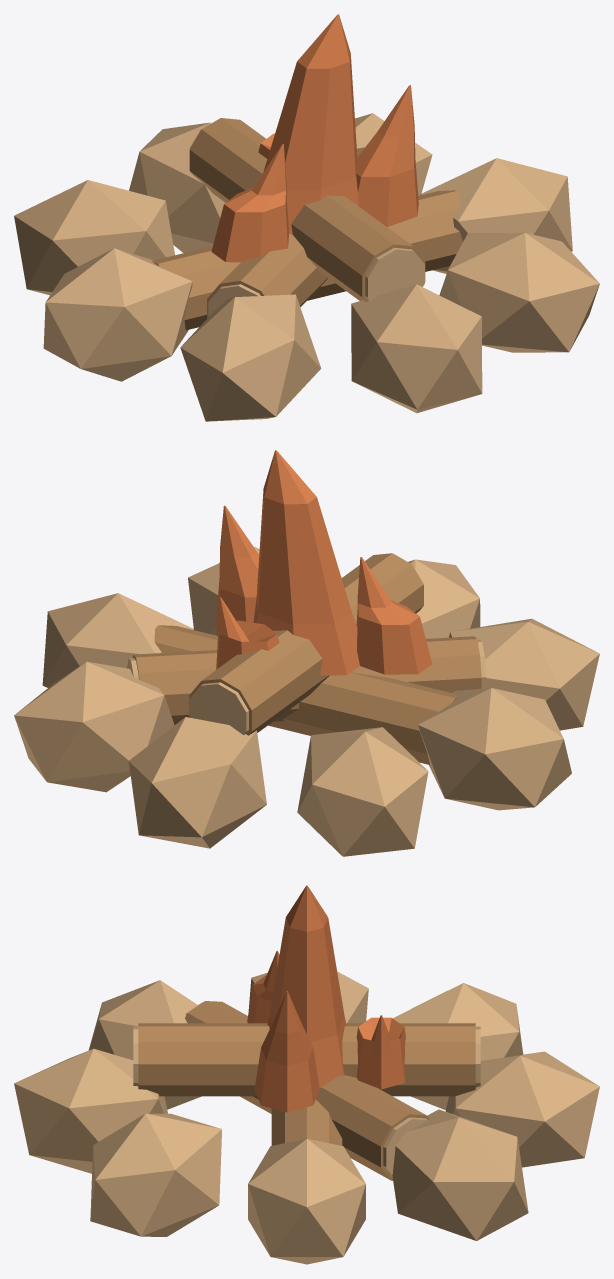
The picture shows the model from 3 angles, top to bottom: view 1: azimuth 30°, elevation 25°; view 2: azimuth 150°, elevation 25°; view 3: azimuth 270°, elevation 25°; orthographic projection. The views are drawn at different scales.
Parts seen in each view (by area): view 1: camping-fire-01; view 2: camping-fire-01; view 3: camping-fire-01.
Part boxes in pixels (x1,y1,x2,y2): camping-fire-01: (14, 14, 599, 421); camping-fire-01: (14, 450, 599, 856); camping-fire-01: (14, 885, 599, 1264).
Bounding box in the file's own units: 1.18 × 0.675 × 1.18.
